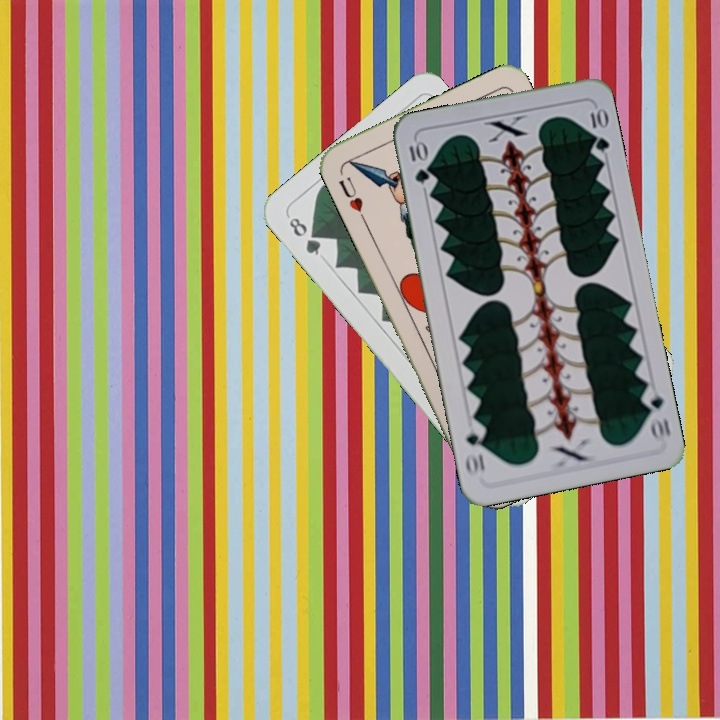G10: (638, 384, 674, 443), (405, 137, 432, 186)
G8: (283, 211, 324, 258)
HU: (335, 172, 368, 223)
